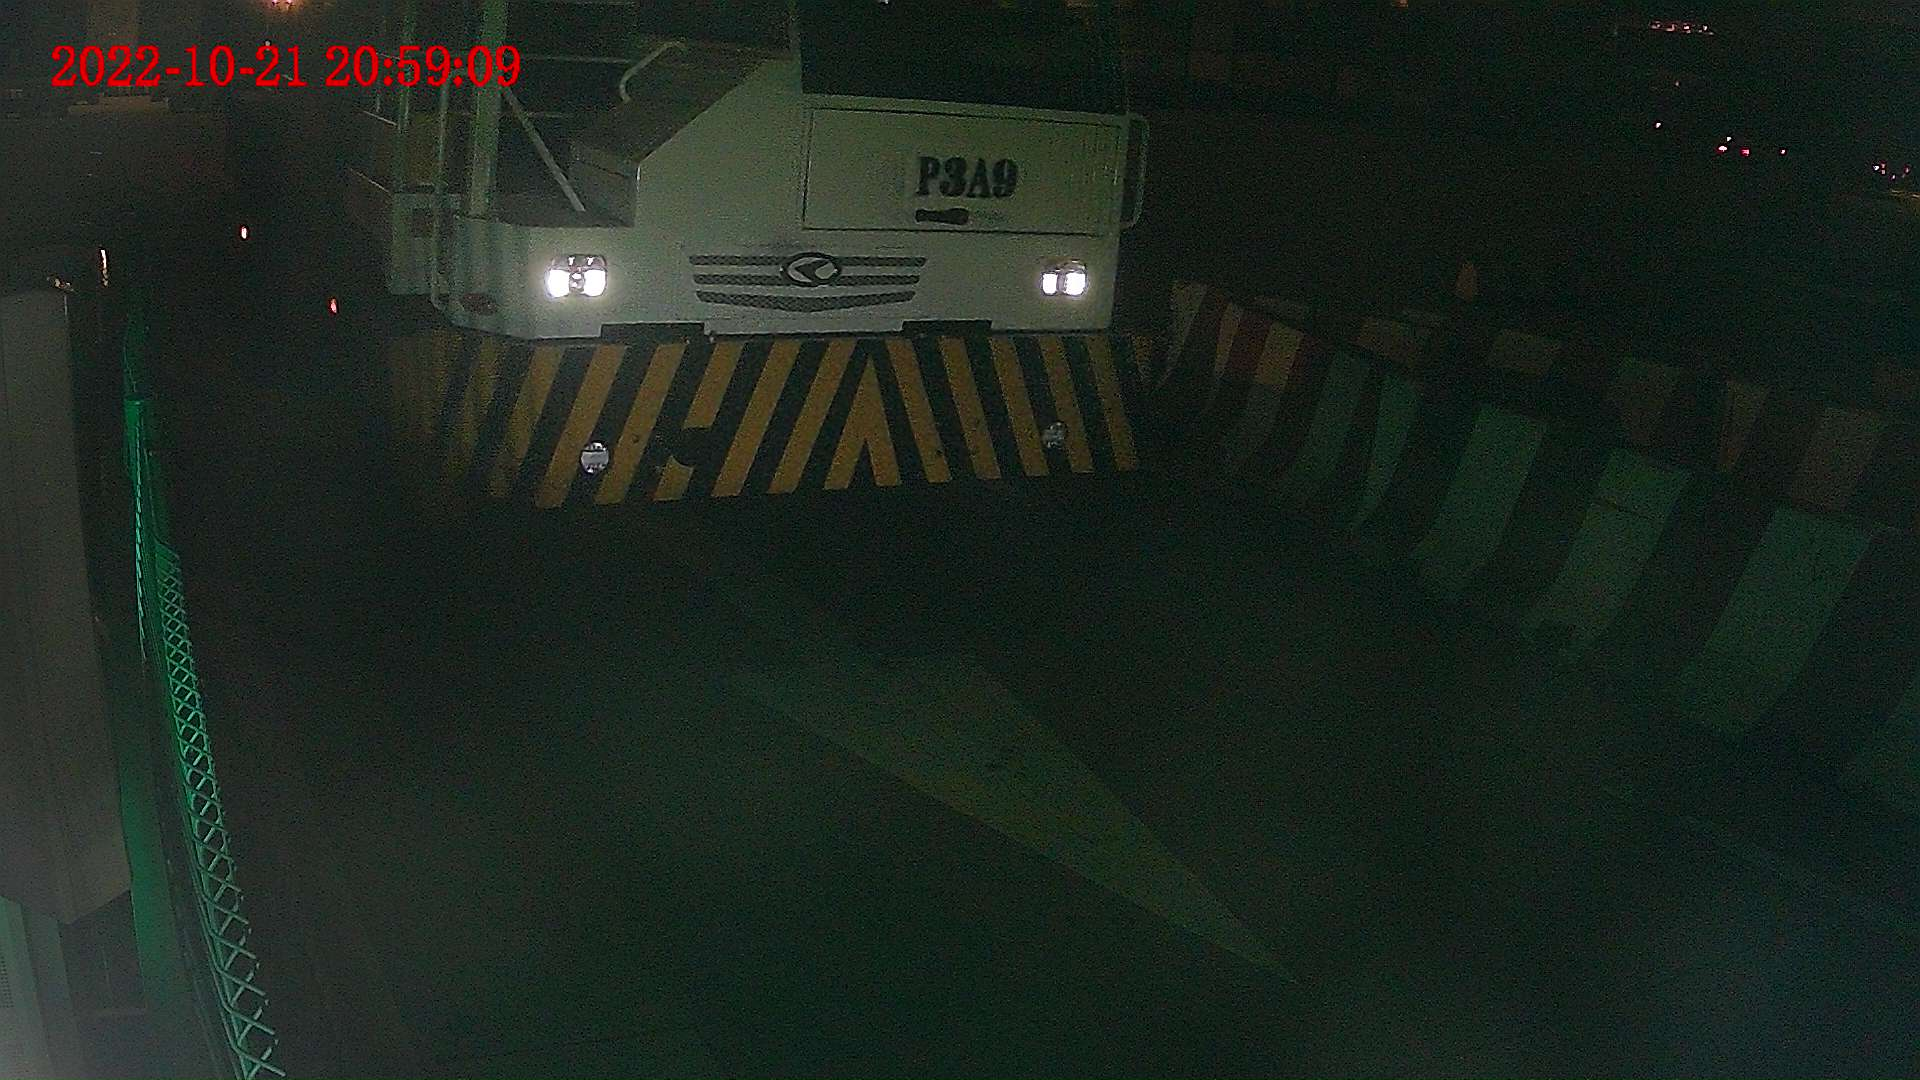head: (297, 1, 1154, 514)
